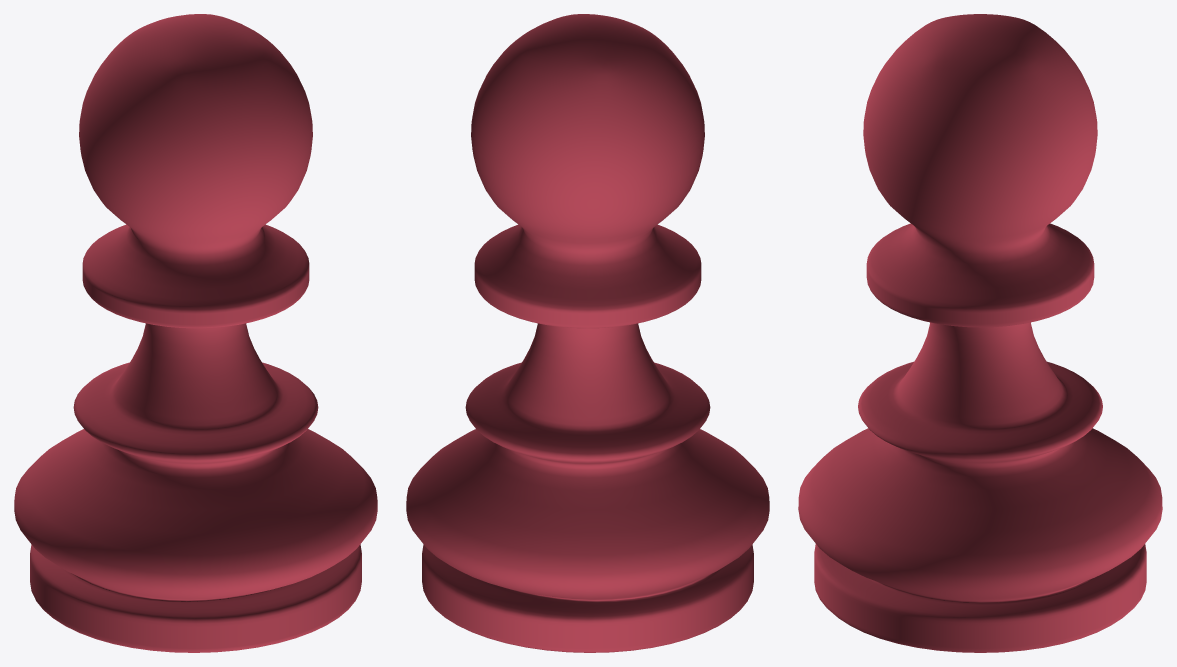
Rendered from pawn-b.glb.
The picture shows the model from 3 angles, left to right: view 1: azimuth 30°, elevation 25°; view 2: azimuth 150°, elevation 25°; view 3: azimuth 270°, elevation 25°; orthographic projection.
Visible parts, largest first — view 1: Object_24; view 2: Object_24; view 3: Object_24.
Boxes of the visible parts, x1,y1,x2,y2 form: Object_24: (14, 14, 377, 652); Object_24: (406, 14, 769, 652); Object_24: (798, 14, 1162, 652).
Size of the model in its own units: 0.668 by 1.13 by 0.668.
